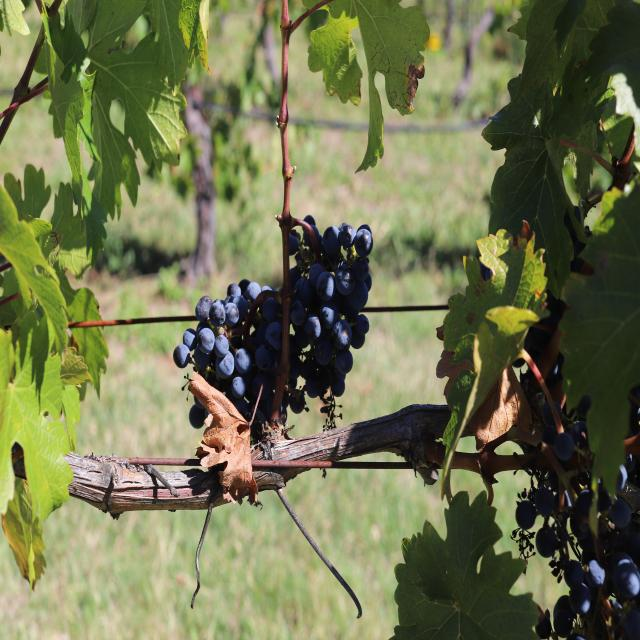grapes: (173, 216, 373, 441), (511, 387, 640, 639)
stem: (508, 428, 576, 510), (244, 291, 281, 351), (291, 218, 322, 266)
